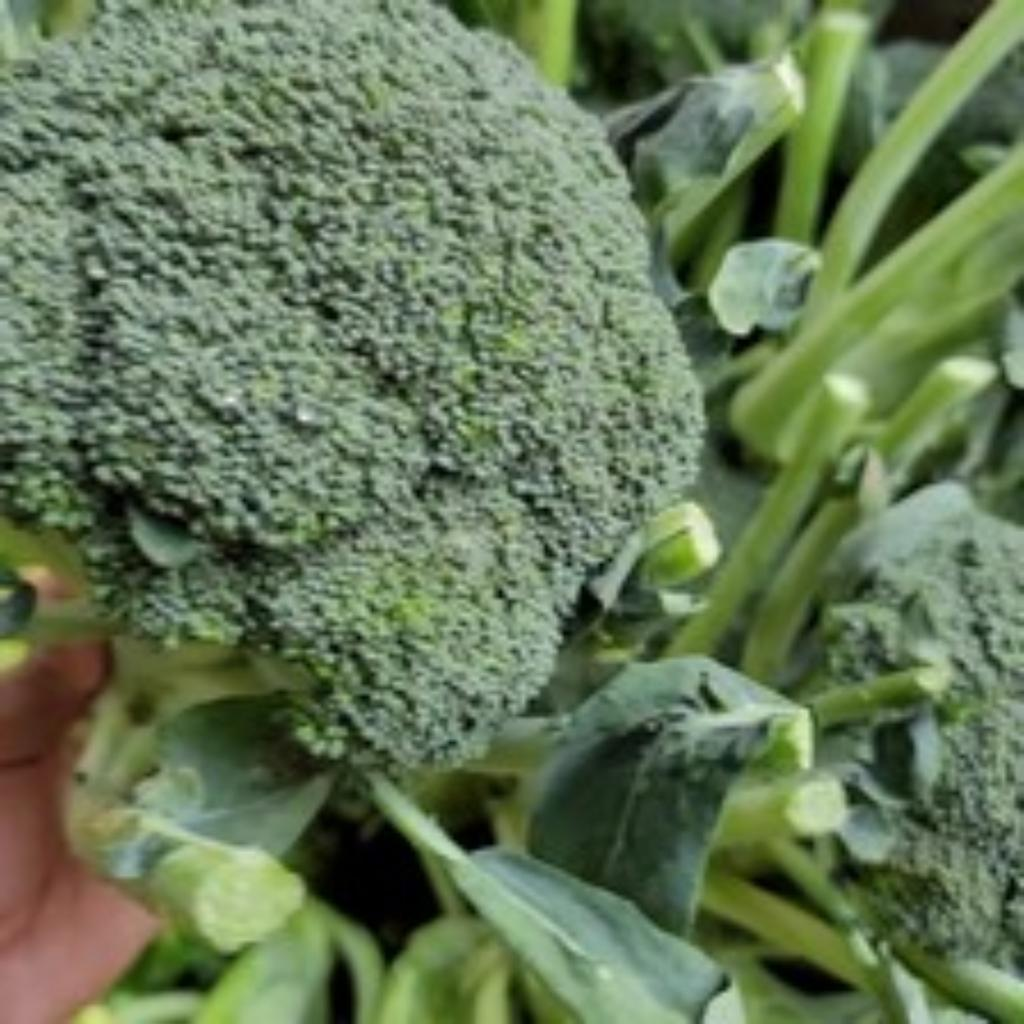Broccoli: (0, 0, 700, 763), (0, 4, 696, 763)
